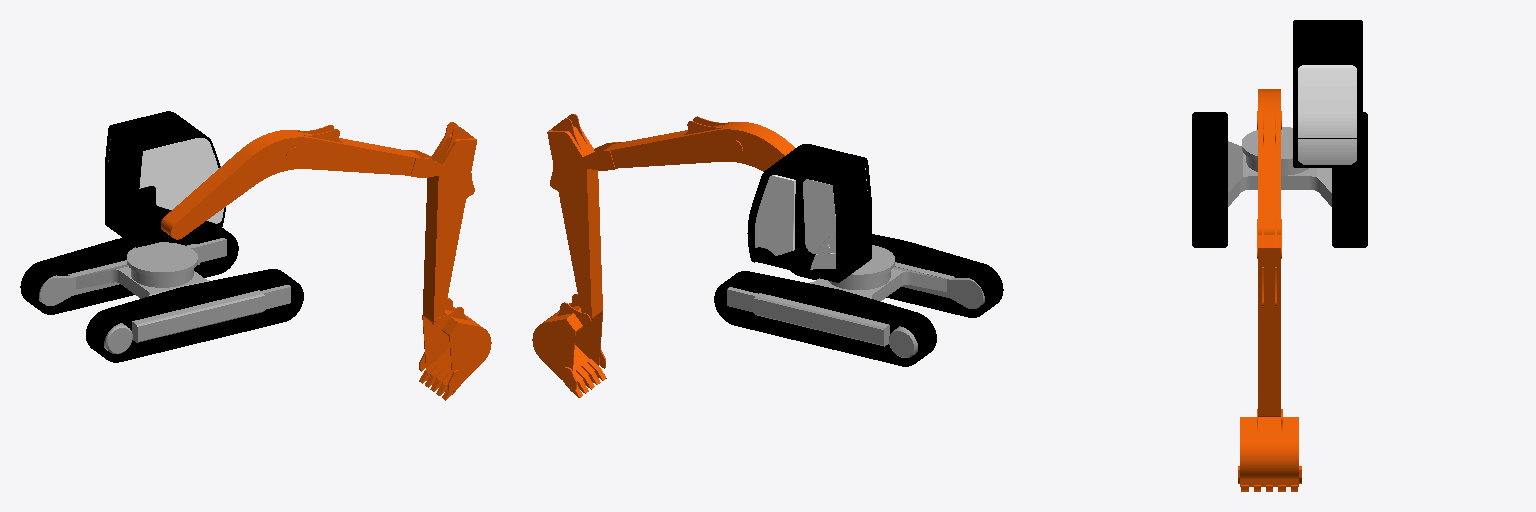
robot.urdf — zx135u:
<?xml version="1.0" ?>
<!-- =================================================================================== -->
<!-- |    This document was autogenerated by xacro from zx135u.xacro                   | -->
<!-- |    EDITING THIS FILE BY HAND IS NOT RECOMMENDED                                 | -->
<!-- =================================================================================== -->
<robot name="zx135u" xmlns:xacro="http://ros.org/wiki/xacro">
  <!-- Inertia is calculated as slender rod in https://en.wikipedia.org/wiki/List_of_moments_of_inertia#List_of_3D_inertia_tensors -->
  <link name="base_link">
    <visual>
      <geometry>
        <mesh filename="package://excavator_model/mesh/meshbody39_rviz.stl"/>
      </geometry>
      <origin rpy="0 0 0" xyz="0 0 0"/>
      <material name="Gray">
        <color rgba="0.7 0.7 0.7 1.0"/>
      </material>
    </visual>
    <inertial>
      <mass value="2.0"/>
      <inertia ixx="1" ixy="0.0" ixz="0.0" iyy="1" iyz="0.0" izz="1"/>
    </inertial>
  </link>
  <joint name="left_front_wheel_joint" type="continuous">
    <origin rpy="-1.5707963267948966 0 0" xyz="0 1 0.6"/>
    <parent link="base_link"/>
    <child link="left_front_wheel_link"/>
    <axis xyz="0 0 1"/>
  </joint>
  <transmission name="left_front_wheel_trans" type="SimpleTransmission">
    <type>transmission_interface/SimpleTransmission</type>
    <actuator name="left_front_wheel_motor">
      <mechanicalReduction>1</mechanicalReduction>
    </actuator>
    <joint name="left_front_wheel_joint">
      <hardwareInterface>hardware_interface/VelocityJointInterface</hardwareInterface>
    </joint>
  </transmission>
  <link name="left_front_wheel_link">
    <inertial>
      <origin rpy="0 0 0" xyz="0 0 0"/>
      <mass value="0.1"/>
      <inertia ixx="0.0001" ixy="0.0" ixz="0.0" iyy="0.0001" iyz="0.0" izz="0.0001"/>
    </inertial>
    <visual>
      <geometry>
        <cylinder length="0.001" radius="0.001"/>
      </geometry>
      <!--material name="red"/-->
    </visual>
    <collision>
      <geometry>
        <cylinder length="0.6" radius="0.6"/>
      </geometry>
    </collision>
  </link>
  <gazebo reference="left_front_wheel_link">
    <!--material>Gazebo/Red</material-->
    <mu1 value="2.5"/>
    <mu2 value="2.5"/>
    <kp value="50000"/>
    <kd value="10"/>
  </gazebo>
  <joint name="left_middle_wheel_joint" type="continuous">
    <origin rpy="-1.5707963267948966 0 0" xyz="-1.5 1 0.6"/>
    <parent link="base_link"/>
    <child link="left_middle_wheel_link"/>
    <axis xyz="0 0 1"/>
  </joint>
  <transmission name="left_middle_wheel_trans" type="SimpleTransmission">
    <type>transmission_interface/SimpleTransmission</type>
    <actuator name="left_middle_wheel_motor">
      <mechanicalReduction>1</mechanicalReduction>
    </actuator>
    <joint name="left_middle_wheel_joint">
      <hardwareInterface>hardware_interface/VelocityJointInterface</hardwareInterface>
    </joint>
  </transmission>
  <link name="left_middle_wheel_link">
    <inertial>
      <origin rpy="0 0 0" xyz="0 0 0"/>
      <mass value="0.1"/>
      <inertia ixx="0.0001" ixy="0.0" ixz="0.0" iyy="0.0001" iyz="0.0" izz="0.0001"/>
    </inertial>
    <visual>
      <geometry>
        <cylinder length="0.001" radius="0.001"/>
      </geometry>
      <!--material name="red"/-->
    </visual>
    <collision>
      <geometry>
        <cylinder length="0.6" radius="0.6"/>
      </geometry>
    </collision>
  </link>
  <gazebo reference="left_middle_wheel_link">
    <!--material>Gazebo/Red</material-->
    <mu1 value="2.5"/>
    <mu2 value="2.5"/>
    <kp value="50000"/>
    <kd value="10"/>
  </gazebo>
  <joint name="left_rear_wheel_joint" type="continuous">
    <origin rpy="-1.5707963267948966 0 0" xyz="1.5 1 0.6"/>
    <parent link="base_link"/>
    <child link="left_rear_wheel_link"/>
    <axis xyz="0 0 1"/>
  </joint>
  <transmission name="left_rear_wheel_trans" type="SimpleTransmission">
    <type>transmission_interface/SimpleTransmission</type>
    <actuator name="left_rear_wheel_motor">
      <mechanicalReduction>1</mechanicalReduction>
    </actuator>
    <joint name="left_rear_wheel_joint">
      <hardwareInterface>hardware_interface/VelocityJointInterface</hardwareInterface>
    </joint>
  </transmission>
  <link name="left_rear_wheel_link">
    <inertial>
      <origin rpy="0 0 0" xyz="0 0 0"/>
      <mass value="0.1"/>
      <inertia ixx="0.0001" ixy="0.0" ixz="0.0" iyy="0.0001" iyz="0.0" izz="0.0001"/>
    </inertial>
    <visual>
      <geometry>
        <cylinder length="0.001" radius="0.001"/>
      </geometry>
      <!--material name="red"/-->
    </visual>
    <collision>
      <geometry>
        <cylinder length="0.6" radius="0.6"/>
      </geometry>
    </collision>
  </link>
  <gazebo reference="left_rear_wheel_link">
    <!--material>Gazebo/Red</material-->
    <mu1 value="2.5"/>
    <mu2 value="2.5"/>
    <kp value="50000"/>
    <kd value="10"/>
  </gazebo>
  <joint name="right_front_wheel_joint" type="continuous">
    <origin rpy="-1.5707963267948966 0 0" xyz="0 -1 0.6"/>
    <parent link="base_link"/>
    <child link="right_front_wheel_link"/>
    <axis xyz="0 0 1"/>
  </joint>
  <transmission name="right_front_wheel_trans" type="SimpleTransmission">
    <type>transmission_interface/SimpleTransmission</type>
    <actuator name="right_front_wheel_motor">
      <mechanicalReduction>1</mechanicalReduction>
    </actuator>
    <joint name="right_front_wheel_joint">
      <hardwareInterface>hardware_interface/VelocityJointInterface</hardwareInterface>
    </joint>
  </transmission>
  <link name="right_front_wheel_link">
    <inertial>
      <origin rpy="0 0 0" xyz="0 0 0"/>
      <mass value="0.1"/>
      <inertia ixx="0.0001" ixy="0.0" ixz="0.0" iyy="0.0001" iyz="0.0" izz="0.0001"/>
    </inertial>
    <visual>
      <geometry>
        <cylinder length="0.001" radius="0.001"/>
      </geometry>
      <!--material name="red"/-->
    </visual>
    <collision>
      <geometry>
        <cylinder length="0.6" radius="0.6"/>
      </geometry>
    </collision>
  </link>
  <gazebo reference="right_front_wheel_link">
    <!--material>Gazebo/Red</material-->
    <mu1 value="2.5"/>
    <mu2 value="2.5"/>
    <kp value="50000"/>
    <kd value="10"/>
  </gazebo>
  <joint name="right_middle_wheel_joint" type="continuous">
    <origin rpy="-1.5707963267948966 0 0" xyz="-1.5 -1 0.6"/>
    <parent link="base_link"/>
    <child link="right_middle_wheel_link"/>
    <axis xyz="0 0 1"/>
  </joint>
  <transmission name="right_middle_wheel_trans" type="SimpleTransmission">
    <type>transmission_interface/SimpleTransmission</type>
    <actuator name="right_middle_wheel_motor">
      <mechanicalReduction>1</mechanicalReduction>
    </actuator>
    <joint name="right_middle_wheel_joint">
      <hardwareInterface>hardware_interface/VelocityJointInterface</hardwareInterface>
    </joint>
  </transmission>
  <link name="right_middle_wheel_link">
    <inertial>
      <origin rpy="0 0 0" xyz="0 0 0"/>
      <mass value="0.1"/>
      <inertia ixx="0.0001" ixy="0.0" ixz="0.0" iyy="0.0001" iyz="0.0" izz="0.0001"/>
    </inertial>
    <visual>
      <geometry>
        <cylinder length="0.001" radius="0.001"/>
      </geometry>
      <!--material name="red"/-->
    </visual>
    <collision>
      <geometry>
        <cylinder length="0.6" radius="0.6"/>
      </geometry>
    </collision>
  </link>
  <gazebo reference="right_middle_wheel_link">
    <!--material>Gazebo/Red</material-->
    <mu1 value="2.5"/>
    <mu2 value="2.5"/>
    <kp value="50000"/>
    <kd value="10"/>
  </gazebo>
  <joint name="right_rear_wheel_joint" type="continuous">
    <origin rpy="-1.5707963267948966 0 0" xyz="1.5 -1 0.6"/>
    <parent link="base_link"/>
    <child link="right_rear_wheel_link"/>
    <axis xyz="0 0 1"/>
  </joint>
  <transmission name="right_rear_wheel_trans" type="SimpleTransmission">
    <type>transmission_interface/SimpleTransmission</type>
    <actuator name="right_rear_wheel_motor">
      <mechanicalReduction>1</mechanicalReduction>
    </actuator>
    <joint name="right_rear_wheel_joint">
      <hardwareInterface>hardware_interface/VelocityJointInterface</hardwareInterface>
    </joint>
  </transmission>
  <link name="right_rear_wheel_link">
    <inertial>
      <origin rpy="0 0 0" xyz="0 0 0"/>
      <mass value="0.1"/>
      <inertia ixx="0.0001" ixy="0.0" ixz="0.0" iyy="0.0001" iyz="0.0" izz="0.0001"/>
    </inertial>
    <visual>
      <geometry>
        <cylinder length="0.001" radius="0.001"/>
      </geometry>
      <!--material name="red"/-->
    </visual>
    <collision>
      <geometry>
        <cylinder length="0.6" radius="0.6"/>
      </geometry>
    </collision>
  </link>
  <gazebo reference="right_rear_wheel_link">
    <!--material>Gazebo/Red</material-->
    <mu1 value="2.5"/>
    <mu2 value="2.5"/>
    <kp value="50000"/>
    <kd value="10"/>
  </gazebo>
  <!-- Track Model and Joint Definition-->
  <link name="track_link">
    <visual>
      <geometry>
        <mesh filename="package://excavator_model/mesh/meshbody38_rviz.stl"/>
      </geometry>
      <origin rpy="0 0 0" xyz="0 0 0"/>
      <material name="Black">
        <color rgba="0.0 0.0 0.0 1.0"/>
      </material>
    </visual>
    <inertial>
      <mass value="1"/>
      <inertia ixx="1" ixy="0.0" ixz="0.0" iyy="1" iyz="0.0" izz="1"/>
    </inertial>
  </link>
  <joint name="track_joint" type="fixed">
    <parent link="base_link"/>
    <child link="track_link"/>
    <origin xyz="0 0 0"/>
  </joint>
  <!-- Rotator Model and Joint Definition-->
  <link name="rotator_link">
    <visual>
      <geometry>
        <mesh filename="package://excavator_model/mesh/meshbody1_rviz.stl"/>
      </geometry>
      <origin rpy="0 0 0" xyz="0 0 0"/>
      <material name="Gray">
        <color rgba="0.7 0.7 0.7 1.0"/>
      </material>
    </visual>
    <inertial>
      <mass value="1"/>
      <!-- inertia ixx="${(boom_mass*4.6*4.6)/3}" ixy="0.0" ixz="0.0" iyy="0.0" iyz="0.0" izz="${(boom_mass*4.6*4.6)/3}"/ -->
      <inertia ixx="1" ixy="0.0" ixz="0.0" iyy="1" iyz="0.0" izz="1"/>
    </inertial>
  </link>
  <joint name="rotator_joint" type="continuous">
    <parent link="base_link"/>
    <child link="rotator_link"/>
    <axis xyz="0 0 1"/>
    <origin xyz="0 0 0.643"/>
    <!-- limit effort="100" lower="${-70/180*PI}" upper="${44/180*PI}" velocity="5"/-->
  </joint>
  <gazebo reference="rotator_link">
    <turnGravityOff>True</turnGravityOff>
  </gazebo>
  <!-- upper Model and Joint Definition-->
  <link name="upper_link">
    <visual>
      <geometry>
        <mesh filename="package://excavator_model/mesh/meshbody12-18_rviz.stl"/>
      </geometry>
      <origin rpy="0 0 0" xyz="0 0 0"/>
      <material name="Orange">
        <color rgba="0.97 0.41 0.05 1"/>
      </material>
    </visual>
    <inertial>
      <mass value="1"/>
      <inertia ixx="1" ixy="0.0" ixz="0.0" iyy="1" iyz="0.0" izz="1"/>
    </inertial>
  </link>
  <joint name="upper_joint" type="fixed">
    <parent link="rotator_link"/>
    <child link="upper_link"/>
    <origin xyz="0 0 0.249"/>
  </joint>
  <!-- cabin Model and Joint Definition-->
  <link name="cabin_link">
    <visual>
      <geometry>
        <mesh filename="package://excavator_model/mesh/meshbody10_rviz.stl"/>
      </geometry>
      <origin rpy="0 0 0" xyz="0 0 0"/>
      <material name="Black">
        <color rgba="0 0 0 1.0"/>
      </material>
    </visual>
    <visual>
      <geometry>
        <mesh filename="package://excavator_model/mesh/meshbody2-8_rviz.stl"/>
      </geometry>
      <origin rpy="0 0 0" xyz="0 0 0"/>
      <material name="White">
        <color rgba="1.0 1.0 1.0 1.0"/>
      </material>
    </visual>
  </link>
  <joint name="cabin_joint" type="fixed">
    <parent link="upper_link"/>
    <child link="cabin_link"/>
    <origin xyz="0 0 0.2"/>
  </joint>
  <!-- boom Model and Joint Definition-->
  <link name="boom_link">
    <visual>
      <geometry>
        <mesh filename="package://excavator_model/mesh/meshbody19_rviz.stl" scale="1.115 1.115 1.115"/>
      </geometry>
      <origin rpy="0 -1.5457963267500001 0" xyz="0 0 0"/>
      <material name="Orange">
        <color rgba="0.97 0.41 0.05 1"/>
      </material>
    </visual>
    <inertial>
      <mass value="1"/>
      <inertia ixx="7.053333333333332" ixy="0.0" ixz="0.0" iyy="0.0" iyz="0.0" izz="7.053333333333332"/>
    </inertial>
  </link>
  <joint name="boom_joint" type="revolute">
    <parent link="upper_link"/>
    <child link="boom_link"/>
    <axis xyz="0 1 0"/>
    <origin rpy="0 1.57079632675 0" xyz="0.14 -0.16 0.532"/>
    <limit effort="1" lower="-1.2217304763611112" upper="0.7679448708555555" velocity="0.5"/>
  </joint>
  <gazebo reference="boom_link">
    <turnGravityOff>True</turnGravityOff>
  </gazebo>
  <!-- arm Model and Joint Definition-->
  <link name="arm_link">
    <visual>
      <geometry>
        <mesh filename="package://excavator_model/mesh/meshbody26_rviz.stl" scale="1.17 1.17 1.17"/>
      </geometry>
      <origin rpy="0 2.0843951023333336 0" xyz="-0.3 0 -0.55"/>
      <material name="Orange">
        <color rgba="0.97 0.41 0.05 1"/>
      </material>
    </visual>
    <inertial>
      <mass value="1"/>
      <inertia ixx="7.053333333333332" ixy="0.0" ixz="0.0" iyy="0.0" iyz="0.0" izz="7.053333333333332"/>
    </inertial>
  </link>
  <joint name="arm_joint" type="revolute">
    <parent link="boom_link"/>
    <child link="arm_link"/>
    <axis xyz="0 1 0"/>
    <origin rpy="0 0 0" xyz="0 0 4.6"/>
    <limit effort="1" lower="0.5235987755833333" upper="2.6529004629555555" velocity="0.5"/>
  </joint>
  <gazebo reference="arm_link">
    <turnGravityOff>True</turnGravityOff>
  </gazebo>
  <!-- backet Model and Joint Definition-->
  <link name="backet_link">
    <visual>
      <geometry>
        <mesh filename="package://excavator_model/mesh/meshbody24_rviz.stl" scale="0.99 0.99 0.99"/>
      </geometry>
      <origin rpy="0 -0.4415987755833333 0" xyz="-0.1 0 -0.05"/>
      <material name="Orange">
        <color rgba="0.97 0.41 0.05 1"/>
      </material>
    </visual>
    <inertial>
      <mass value="1"/>
      <inertia ixx="7.053333333333332" ixy="0.0" ixz="0.0" iyy="0.0" iyz="0.0" izz="7.053333333333332"/>
    </inertial>
  </link>
  <joint name="backet_joint" type="revolute">
    <parent link="arm_link"/>
    <child link="backet_link"/>
    <axis xyz="0 1 0"/>
    <origin rpy="0 0 0" xyz="0 0 2.519"/>
    <limit effort="1" lower="-0.5759586531416666" upper="2.4958208302805556" velocity="0.5"/>
  </joint>
  <!-- backet end Model and Joint Definition-->
  <link name="backet_end_link">
    <visual>
      <origin rpy="0 0 0" xyz="0 0 0"/>
      <geometry>
        <box size="0.001 0.001 0.001"/>
      </geometry>
      <material name="red"/>
    </visual>
    <inertial>
      <origin xyz="0 0 0"/>
      <mass value="1.0e-03"/>
      <inertia ixx="1.0e-03" ixy="0.0" ixz="0.0" iyy="1.0e-03" iyz="0.0" izz="1.0e-03"/>
    </inertial>
  </link>
  <joint name="backet_end_joint" type="revolute">
    <parent link="backet_link"/>
    <child link="backet_end_link"/>
    <axis xyz="1 0 0"/>
    <origin rpy="0 0 0" xyz="0 0 1.23"/>
    <limit effort="1" lower="-3.14" upper="3.14" velocity="0.5"/>
  </joint>
  <gazebo reference="backet_link">
    <turnGravityOff>True</turnGravityOff>
  </gazebo>
  <transmission name="rotator_trans">
    <type>transmission_interface/SimpleTransmission</type>
    <joint name="rotator_joint">
      <hardwareInterface>hardware_interface/PositionJointInterface</hardwareInterface>
    </joint>
    <actuator name="rotator_motor">
      <hardwareInterface>hardware_interface/PositionJointInterface</hardwareInterface>
      <mechanicalReduction>1</mechanicalReduction>
    </actuator>
  </transmission>
  <transmission name="boom_trans">
    <type>transmission_interface/SimpleTransmission</type>
    <joint name="boom_joint">
      <hardwareInterface>hardware_interface/PositionJointInterface</hardwareInterface>
    </joint>
    <actuator name="boom_motor">
      <hardwareInterface>hardware_interface/PositionJointInterface</hardwareInterface>
      <mechanicalReduction>1</mechanicalReduction>
    </actuator>
  </transmission>
  <transmission name="arm_trans">
    <type>transmission_interface/SimpleTransmission</type>
    <joint name="arm_joint">
      <hardwareInterface>hardware_interface/PositionJointInterface</hardwareInterface>
    </joint>
    <actuator name="arm_motor">
      <hardwareInterface>hardware_interface/PositionJointInterface</hardwareInterface>
      <mechanicalReduction>1</mechanicalReduction>
    </actuator>
  </transmission>
  <transmission name="backet_trans">
    <type>transmission_interface/SimpleTransmission</type>
    <joint name="backet_joint">
      <hardwareInterface>hardware_interface/PositionJointInterface</hardwareInterface>
    </joint>
    <actuator name="backet_motor">
      <hardwareInterface>hardware_interface/PositionJointInterface</hardwareInterface>
      <mechanicalReduction>1</mechanicalReduction>
    </actuator>
  </transmission>
  <transmission name="dummy_trans1">
    <type>transmission_interface/SimpleTransmission</type>
    <joint name="backet_end_joint">
      <hardwareInterface>hardware_interface/PositionJointInterface</hardwareInterface>
    </joint>
    <actuator name="dummy_motor1">
      <hardwareInterface>hardware_interface/PositionJointInterface</hardwareInterface>
      <mechanicalReduction>1</mechanicalReduction>
    </actuator>
  </transmission>
  <gazebo>
    <plugin filename="libgazebo_ros_control.so" name="gazebo_ros_control">
      <robotNamespace>/zx135u</robotNamespace>
      <robotSimType>gazebo_ros_control/DefaultRobotHWSim</robotSimType>
      <legacyModeNS>true</legacyModeNS>
    </plugin>
  </gazebo>
</robot>

--- What the picture shows (computed from the rendered views, not written in the file) ---
Views: 3 orthographic renders of the robot side by side, from view 1: azimuth 30°, elevation 25°; view 2: azimuth 150°, elevation 25°; view 3: azimuth 270°, elevation 25°.
Robot: zx135u — 15 links, 14 joints (4 revolute, 7 continuous, 3 fixed); root link base_link; default pose: all joints at 0 but 1 set to mid-range because 0 is outside their limits (arm_joint = 1.59).
Visible links, largest first — view 1: track_link, cabin_link, boom_link, base_link, arm_link, backet_link, rotator_link; view 2: cabin_link, track_link, base_link, boom_link, arm_link, backet_link, rotator_link; view 3: cabin_link, track_link, backet_link, arm_link, boom_link, base_link, rotator_link.
Boxes of the visible links, x1,y1,x2,y2 form: track_link: [20, 227, 303, 362]; cabin_link: [105, 111, 225, 247]; boom_link: [161, 125, 446, 239]; base_link: [39, 238, 290, 353]; arm_link: [423, 122, 476, 324]; backet_link: [419, 298, 491, 400]; rotator_link: [127, 242, 197, 287]; cabin_link: [747, 144, 871, 282]; track_link: [714, 234, 1003, 366]; base_link: [727, 262, 984, 357]; boom_link: [578, 116, 794, 171]; arm_link: [547, 114, 602, 319]; backet_link: [532, 294, 606, 397]; rotator_link: [829, 245, 894, 289]; cabin_link: [1293, 20, 1362, 167]; track_link: [1192, 112, 1367, 247]; backet_link: [1238, 409, 1301, 491]; arm_link: [1258, 222, 1280, 416]; boom_link: [1257, 89, 1281, 258]; base_link: [1228, 141, 1331, 206]; rotator_link: [1242, 127, 1308, 175].
Bounding box of the posed robot: 7.26 × 2.49 × 5.09 m (x, y, z).
8 mesh visuals loaded from 9 distinct referenced files (8 binary STL); not drawn: 1 (reference not matched to a file when rendering).
